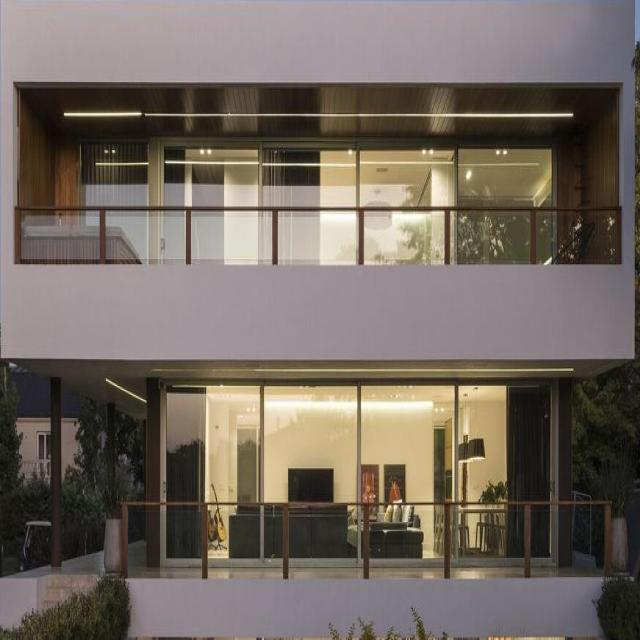railing: (19, 206, 618, 270), (120, 502, 612, 574)
window: (163, 381, 555, 499), (77, 137, 559, 205)
